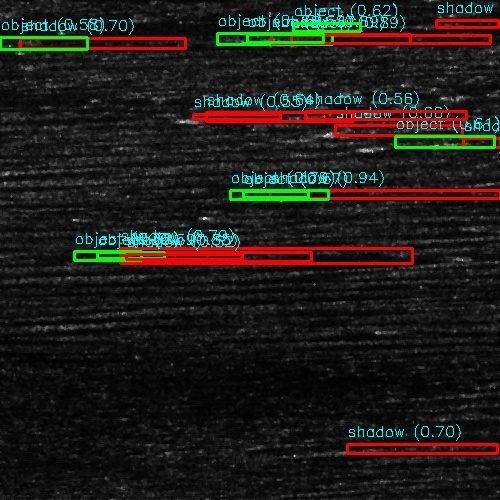rock: (44, 251, 179, 262), (401, 138, 500, 149), (227, 190, 310, 197), (0, 356, 28, 361), (0, 198, 12, 207)
shadow: (112, 251, 387, 262), (269, 190, 500, 197), (0, 198, 148, 207), (0, 344, 59, 357), (0, 333, 54, 342), (459, 138, 500, 149), (0, 356, 83, 361)
